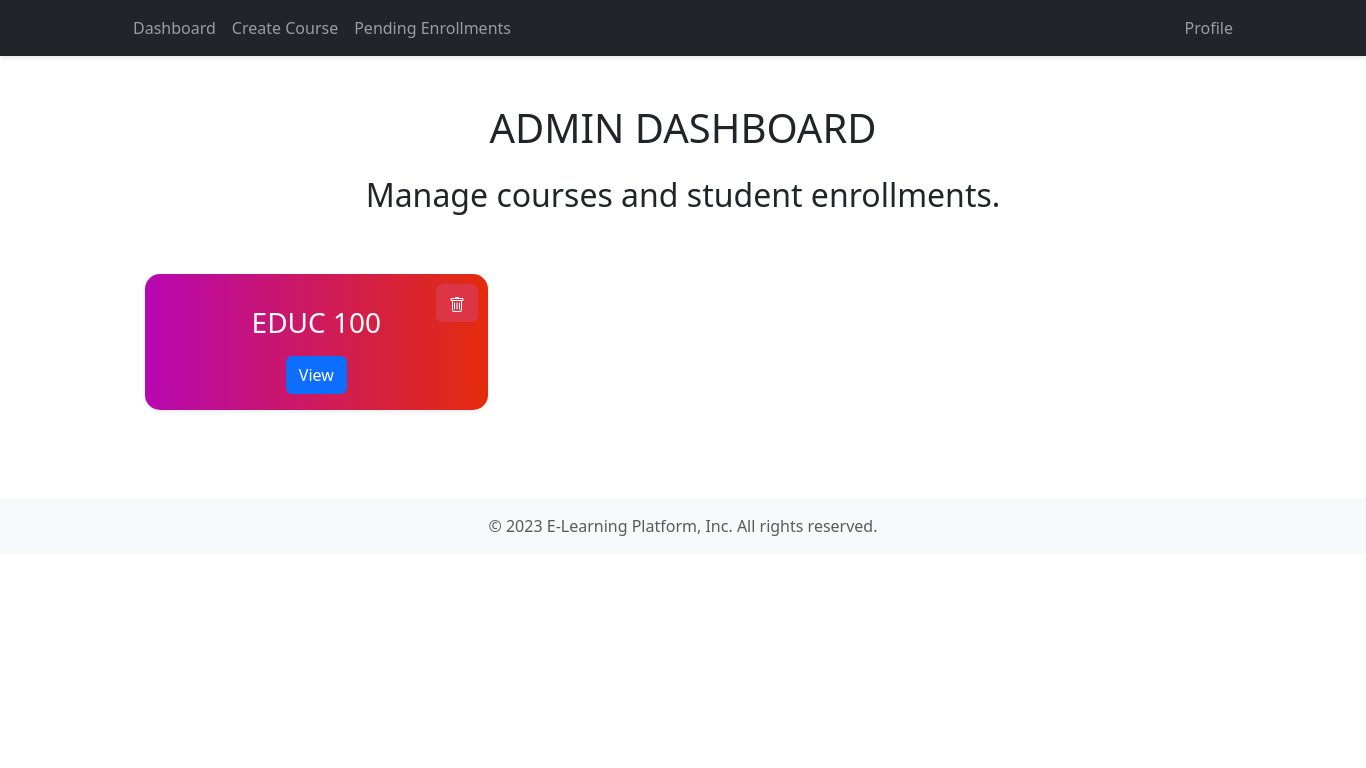
Test: AdminPage component › clicking delete icon deletes course
// Wait for the component to fetch data and render
Click the button with test id "delete". click: (457, 303)
box: [436,284,478,322]
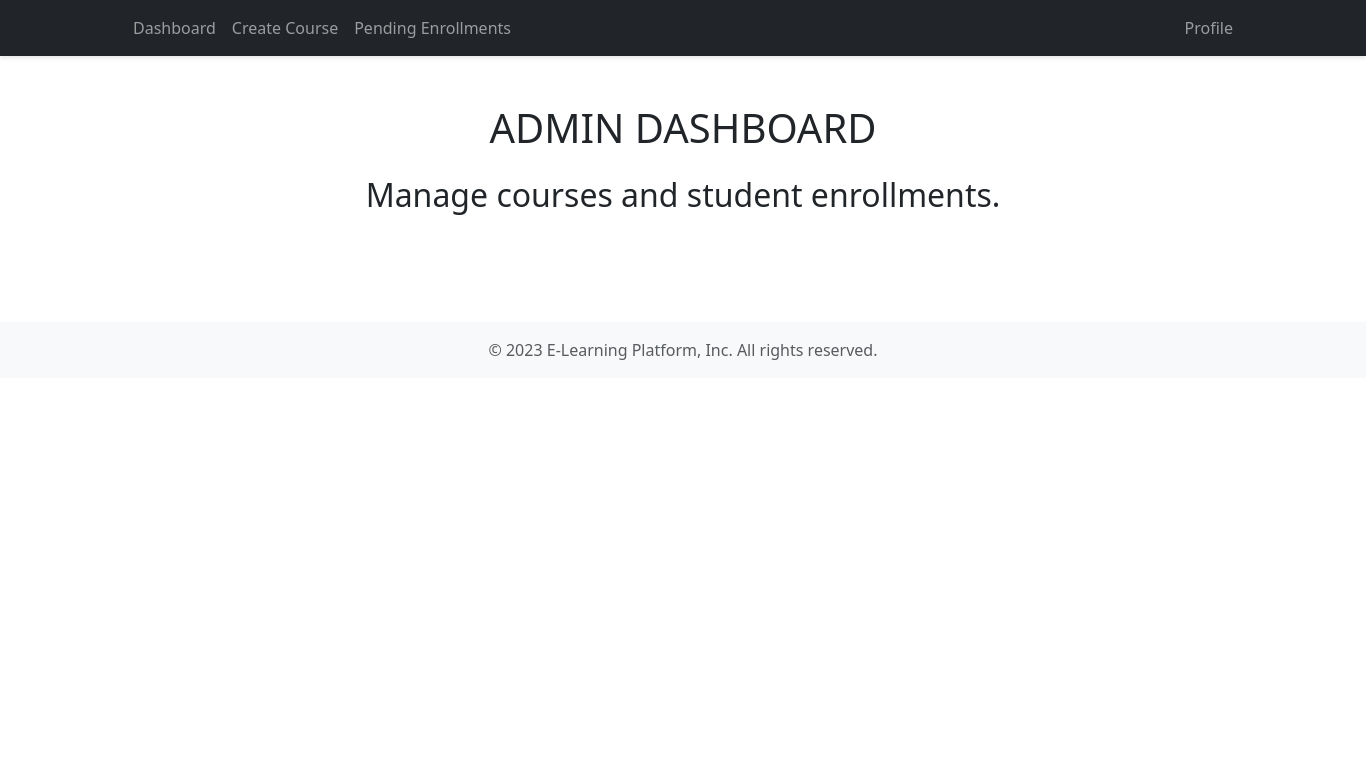
Now the heading "EDUC 100" is gone
